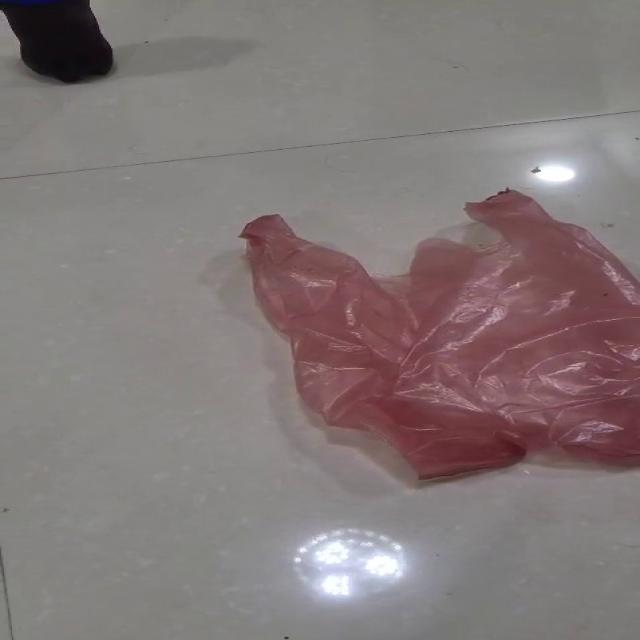plastic: (237, 188, 639, 481)
